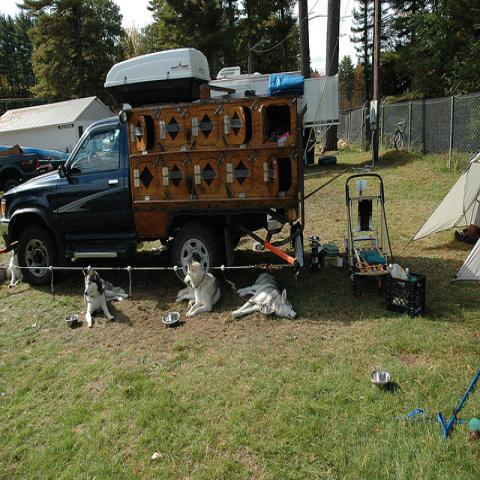truck: (0, 82, 308, 288), (210, 65, 339, 165), (0, 152, 68, 193)
